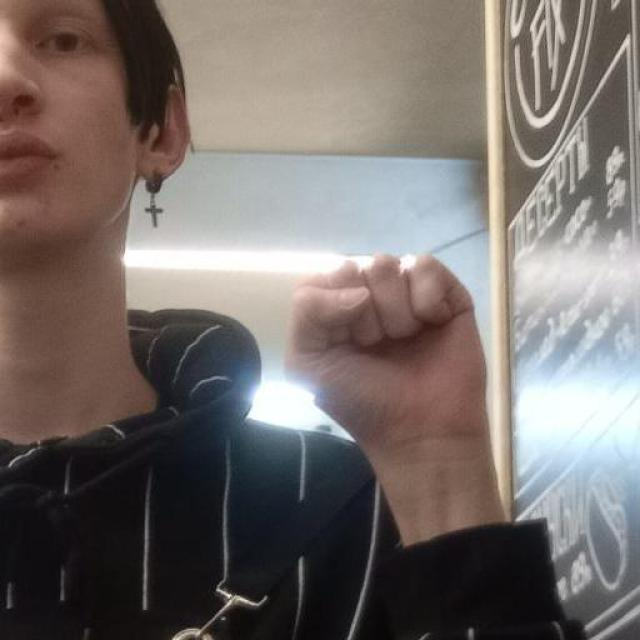hand: (284, 250, 494, 461)
